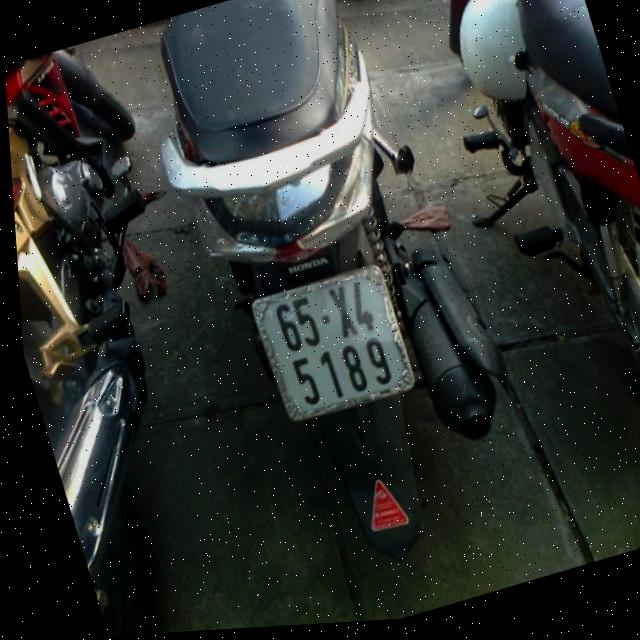motorcycle: (123, 0, 570, 616), (3, 26, 295, 640), (389, 0, 640, 549)
plate: (237, 252, 429, 436)
